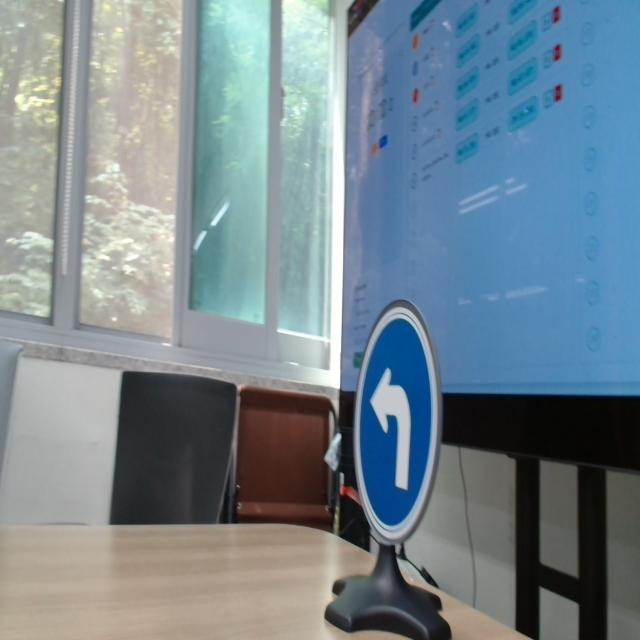left_direction: (342, 252, 459, 570)
